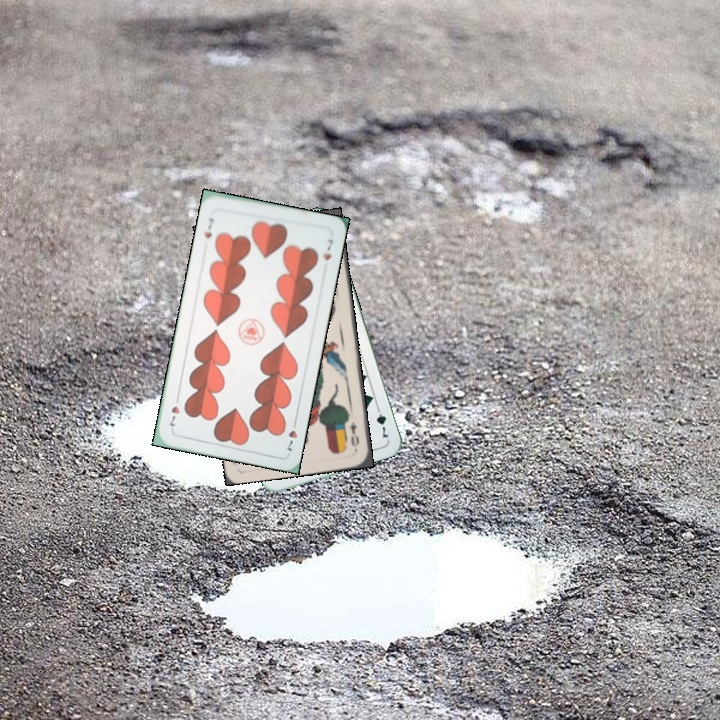EO: (346, 418, 362, 452)
G7: (372, 401, 391, 441)
H7: (283, 415, 300, 454), (200, 214, 216, 241)
